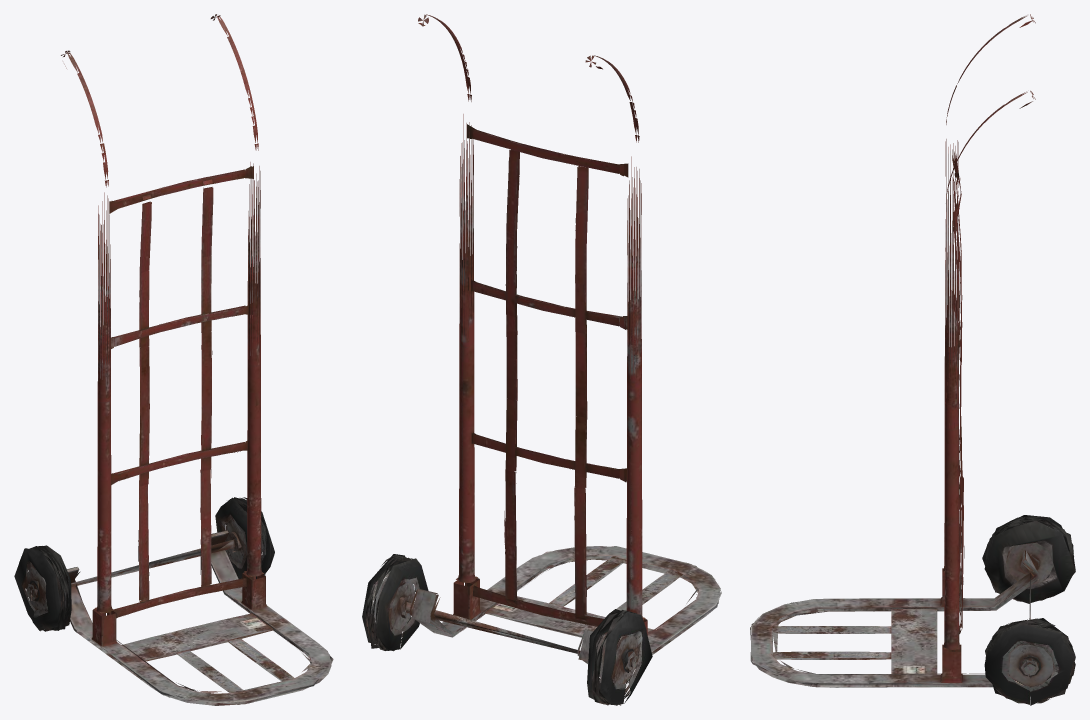
Rendered from ph_hand_truck.glb.
The picture shows the model from 3 angles, left to right: view 1: azimuth 30°, elevation 25°; view 2: azimuth 150°, elevation 25°; view 3: azimuth 270°, elevation 25°; orthographic projection. The views are drawn at different scales.
Visible parts, largest first — view 1: hand_truck; view 2: hand_truck; view 3: hand_truck.
Boxes of the visible parts, x1=… form: hand_truck: x1=14, y1=14, x2=333, y2=705; hand_truck: x1=362, y1=14, x2=721, y2=705; hand_truck: x1=750, y1=14, x2=1075, y2=705.
Bounding box in the file's own units: 0.5933 × 1.41 × 0.6937.
Materials: 1 (1 with a texture image).
